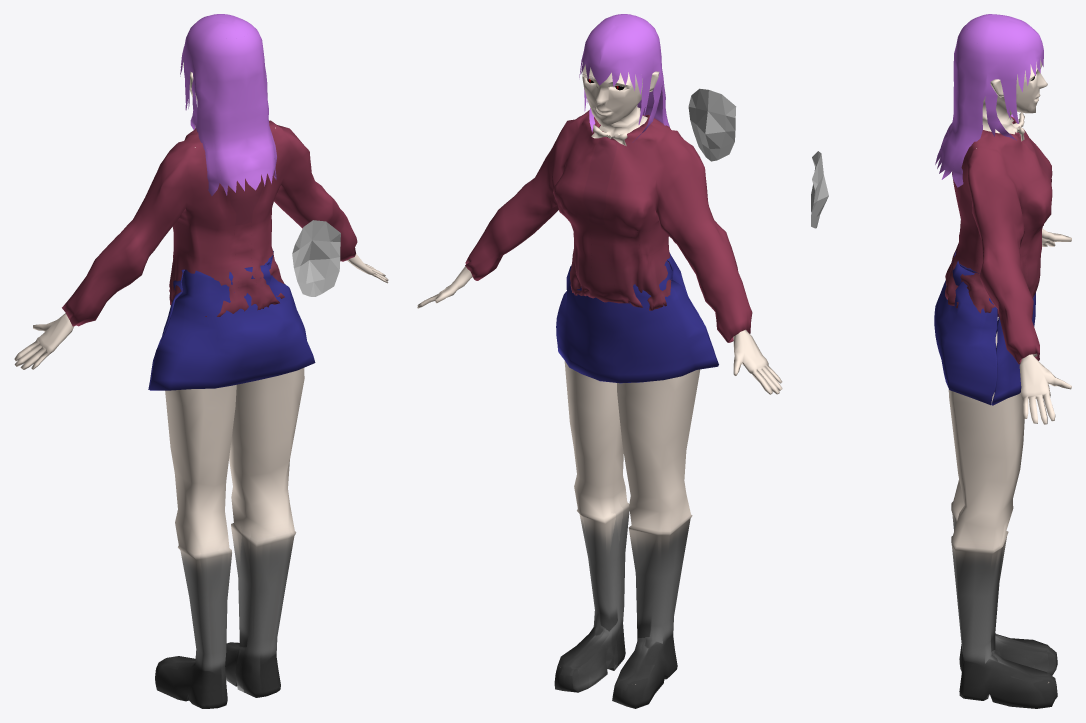
File: head2.dae
3 renders of one model, left to right at view 1: azimuth 30°, elevation 25°; view 2: azimuth 150°, elevation 25°; view 3: azimuth 270°, elevation 25°, orthographic. The views are drawn at different scales.
Parts seen in each view (by area): view 1: body with cheesed cloths, sweater, skirt-baked, longHair, Plane; view 2: body with cheesed cloths, sweater, skirt-baked, longHair, Plane; view 3: body with cheesed cloths, sweater, longHair, skirt-baked, Plane.
Boxes of the visible parts, box(x1,y1,x2,y2) form: body with cheesed cloths: box(14, 60, 388, 708); sweater: box(62, 120, 357, 326); skirt-baked: box(148, 251, 315, 390); longHair: box(180, 14, 276, 195); Plane: box(292, 220, 340, 296); body with cheesed cloths: box(417, 64, 782, 708); sweater: box(465, 110, 752, 342); skirt-baked: box(556, 252, 718, 383); longHair: box(579, 14, 669, 142); Plane: box(688, 88, 736, 161); body with cheesed cloths: box(948, 58, 1071, 708); sweater: box(945, 116, 1052, 364); longHair: box(935, 14, 1043, 187); skirt-baked: box(934, 251, 1035, 405); Plane: box(811, 151, 828, 228).
Size of the model in its own units: 8.39 by 5.17 by 14.63.
